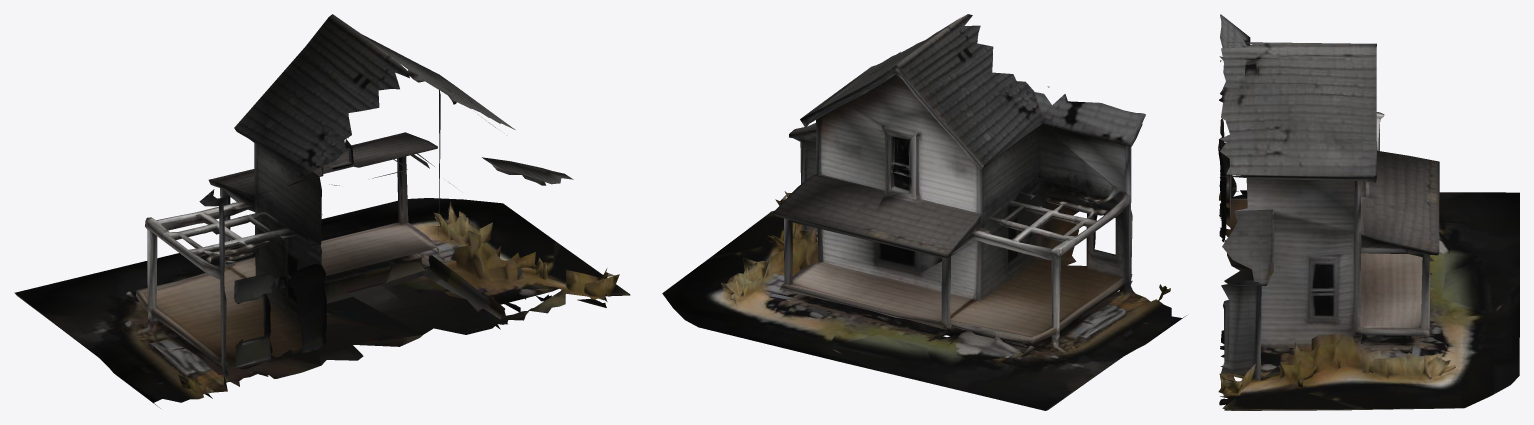
Rendered from ruin_b.glb.
3 renders of one model, left to right at view 1: azimuth 30°, elevation 25°; view 2: azimuth 150°, elevation 25°; view 3: azimuth 270°, elevation 25°, orthographic. The views are drawn at different scales.
Visible parts, largest first — view 1: geometry_0; view 2: geometry_0; view 3: geometry_0.
Boxes of the visible parts, left/top/right/bottom form: geometry_0: left=14, top=14, right=630, bottom=408; geometry_0: left=662, top=14, right=1186, bottom=410; geometry_0: left=1218, top=14, right=1519, bottom=410.
Bounding box in the file's own units: 7.74 × 4.75 × 4.5.
1 material, 1 textured.
